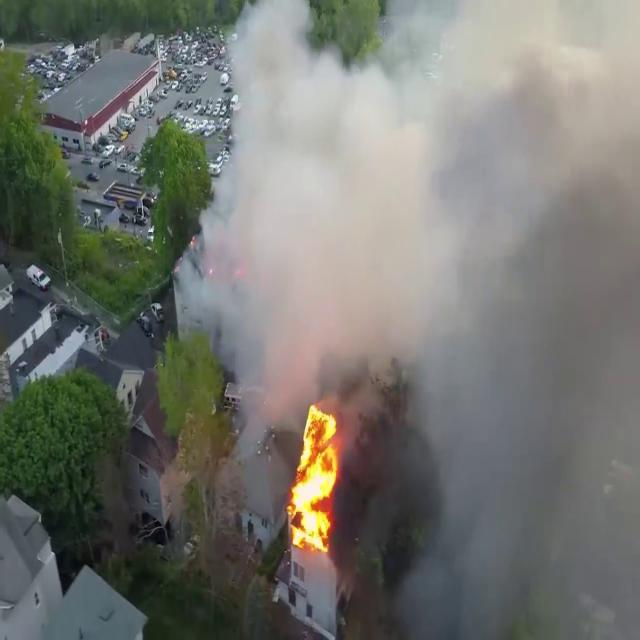Fire: (283, 398, 345, 556)
Smoke: (182, 0, 638, 436), (331, 0, 640, 634)
